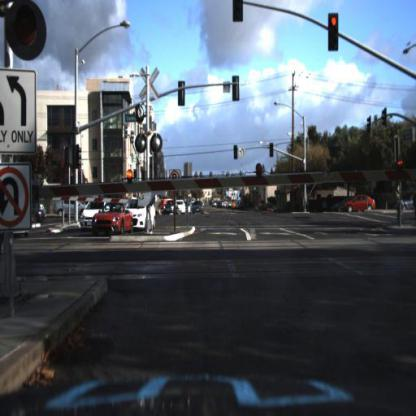car: (93, 201, 135, 236), (51, 197, 93, 223), (128, 201, 158, 232), (342, 195, 378, 218), (344, 192, 377, 215), (81, 199, 105, 230), (332, 196, 354, 214), (334, 191, 350, 215), (30, 208, 45, 230), (400, 193, 416, 210), (402, 194, 416, 213), (32, 202, 49, 215), (164, 201, 179, 215), (175, 199, 185, 220), (191, 199, 204, 215), (222, 195, 233, 212), (163, 199, 174, 214), (177, 197, 187, 213)
pedestrian: (394, 183, 404, 224)
trafficLight: (1, 1, 69, 66), (12, 3, 44, 55), (233, 138, 243, 164), (234, 2, 245, 25)
trafficLight-Red: (324, 9, 345, 58), (329, 14, 340, 52), (234, 144, 239, 161), (271, 142, 275, 158)
